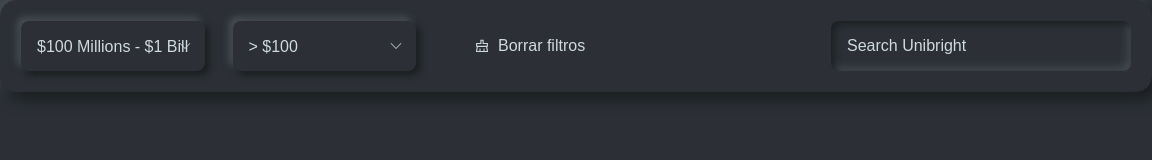
Scenario: Filters of coins › It should clear filter if exits and hide button
The width and height of the screenshot is (1152, 160).
Click the button at (532, 46), box [444, 21, 621, 71]
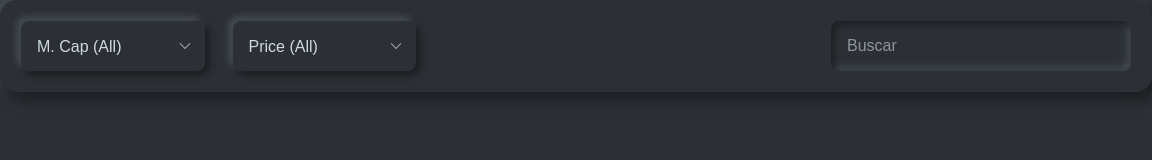
Expected: the dropdown named "Filter by cap" shows "M. Cap (All)", [21, 21, 204, 71]
Expected: the dropdown named "Filter by price" shows "Price (All)", [232, 21, 416, 71]
